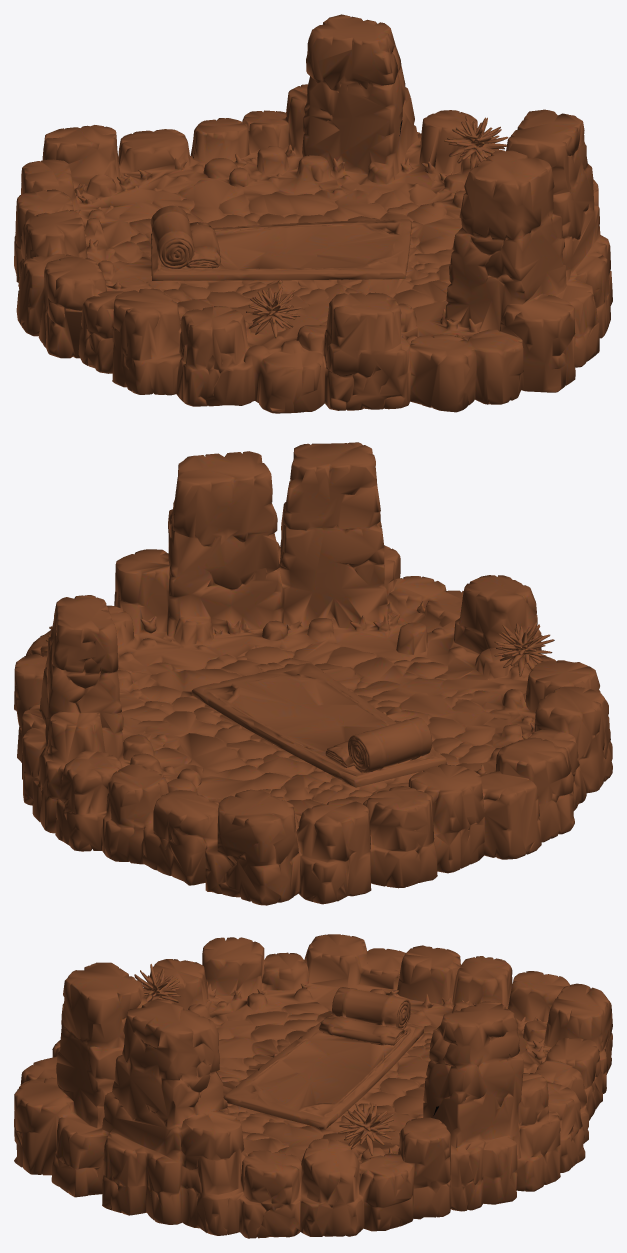
The model's file is arena_rocosa.glb.
3 views of the same model, one above another, from view 1: azimuth 30°, elevation 25°; view 2: azimuth 150°, elevation 25°; view 3: azimuth 270°, elevation 25° (orthographic). The views are drawn at different scales.
Parts seen in each view (by area): view 1: arena_rocosa; view 2: arena_rocosa; view 3: arena_rocosa.
Part boxes in pixels (x1=…): arena_rocosa: x1=14, y1=14, x2=612, y2=413; arena_rocosa: x1=14, y1=442, x2=612, y2=905; arena_rocosa: x1=14, y1=934, x2=612, y2=1238.
Size of what is drawn, in the model's own units: 7.48 by 2.74 by 8.
Materials: 1 (1 with a texture image).
